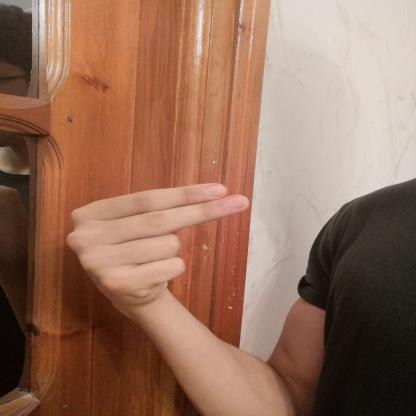AYN: (51, 167, 264, 318)
